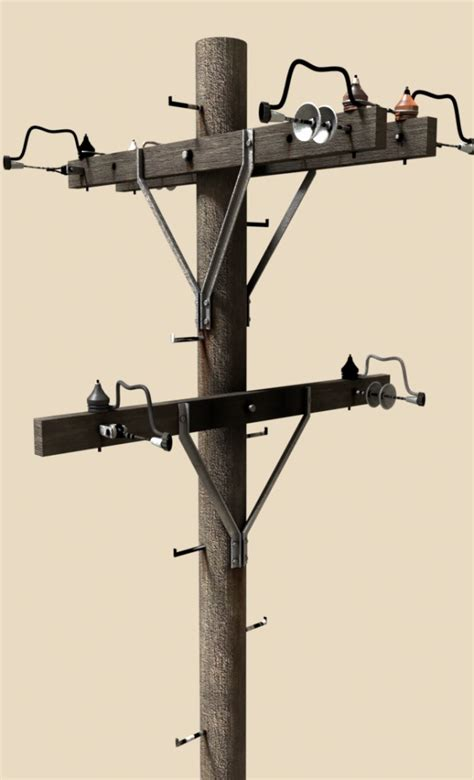pole: (16, 19, 474, 780)
